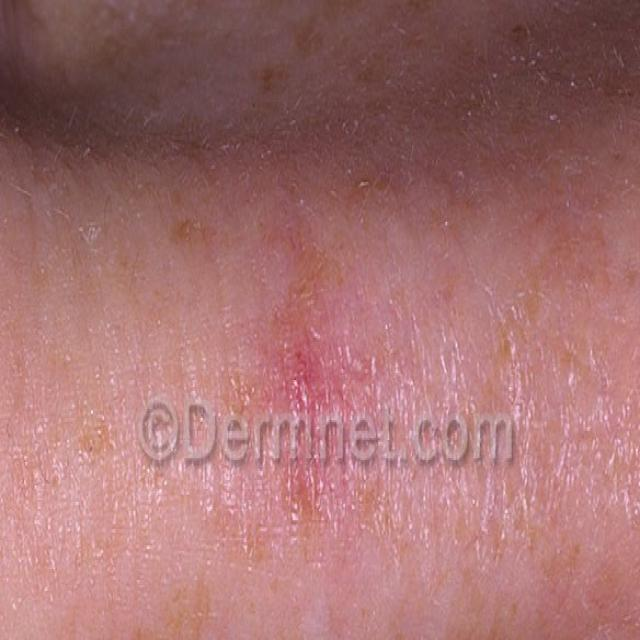Vascular Tumors: (233, 283, 387, 548)
